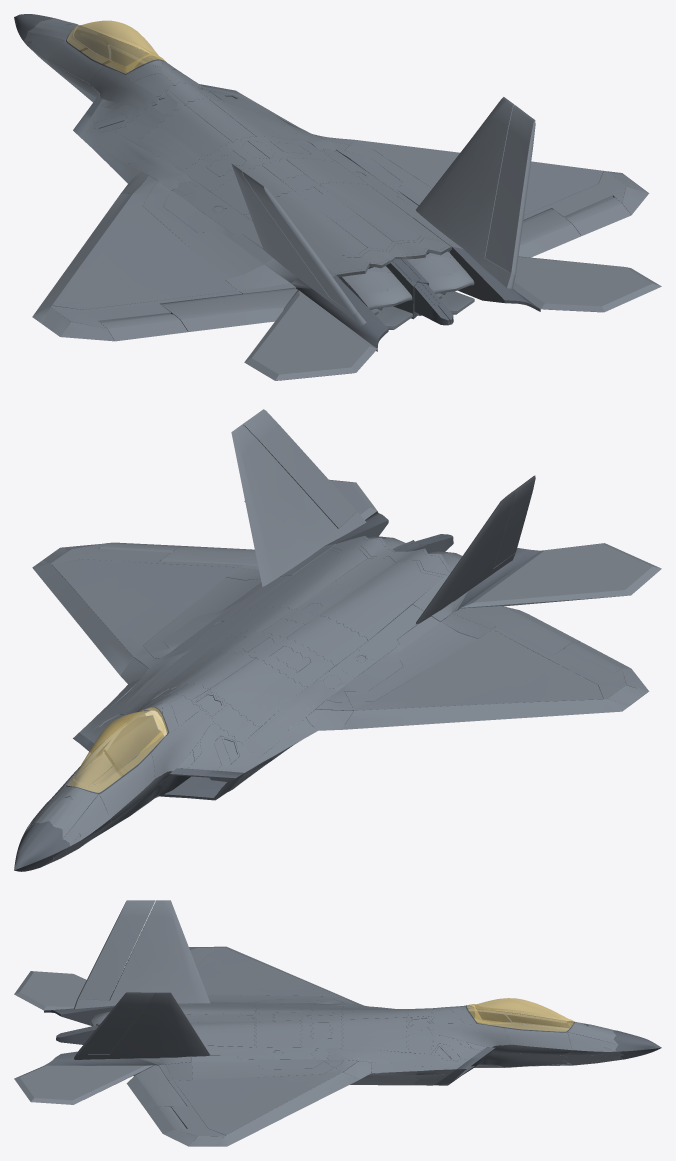
Rendered from f22-raptor-nlm.glb.
The picture shows the model from 3 angles, top to bottom: view 1: azimuth 30°, elevation 25°; view 2: azimuth 150°, elevation 25°; view 3: azimuth 270°, elevation 25°; orthographic projection. The views are drawn at different scales.
Parts seen in each view (by area): view 1: wing-left, center-fuselage, aft-fuselage, forward-fuselage, wing-right, vertical-stabilizer-right, stabilator-left, stabilator-right, tail-booms, rudder-right, flaperon-left, canopy (+5 smaller); view 2: wing-left, center-fuselage, wing-right, forward-fuselage, aft-fuselage, vertical-stabilizer-right, stabilator-left, canopy, rudder-right, vertical-stabilizer-left, flaperon-left, tail-booms (+7 smaller); view 3: wing-right, center-fuselage, forward-fuselage, vertical-stabilizer-left, wing-left, vertical-stabilizer-right, stabilator-right, aft-fuselage, rudder-left, canopy, stabilator-left, rudder-right (+5 smaller).
Boxes of the visible parts, bbox=[...] form: wing-left: bbox=[32, 144, 311, 341]; center-fuselage: bbox=[61, 61, 388, 227]; aft-fuselage: bbox=[231, 181, 474, 329]; forward-fuselage: bbox=[23, 18, 367, 213]; wing-right: bbox=[258, 105, 649, 252]; vertical-stabilizer-right: bbox=[416, 97, 515, 288]; stabilator-left: bbox=[244, 290, 376, 380]; stabilator-right: bbox=[513, 256, 661, 312]; tail-booms: bbox=[296, 246, 540, 351]; rudder-right: bbox=[485, 105, 535, 274]; flaperon-left: bbox=[161, 288, 297, 331]; canopy: bbox=[67, 20, 165, 73]; wing-left: bbox=[253, 591, 649, 769]; center-fuselage: bbox=[80, 606, 388, 847]; wing-right: bbox=[32, 542, 262, 720]; forward-fuselage: bbox=[24, 602, 367, 866]; aft-fuselage: bbox=[231, 536, 466, 647]; vertical-stabilizer-right: bbox=[231, 425, 366, 586]; stabilator-left: bbox=[461, 543, 661, 608]; canopy: bbox=[67, 707, 167, 792]; rudder-right: bbox=[242, 409, 356, 528]; vertical-stabilizer-left: bbox=[416, 491, 515, 624]; flaperon-left: bbox=[458, 606, 580, 656]; tail-booms: bbox=[325, 511, 539, 616]; wing-right: bbox=[139, 1056, 438, 1146]; center-fuselage: bbox=[250, 1003, 571, 1085]; forward-fuselage: bbox=[235, 1004, 623, 1074]; vertical-stabilizer-left: bbox=[74, 900, 209, 1008]; wing-left: bbox=[189, 946, 366, 1006]; vertical-stabilizer-right: bbox=[74, 992, 209, 1059]; stabilator-right: bbox=[14, 1065, 153, 1104]; aft-fuselage: bbox=[90, 1003, 256, 1076]; rudder-left: bbox=[77, 900, 155, 1000]; canopy: bbox=[467, 998, 573, 1031]; stabilator-left: bbox=[14, 971, 86, 1010]; rudder-right: bbox=[77, 992, 155, 1054].
Bounding box in the file's own units: 13.82 × 3.97 × 18.92.
